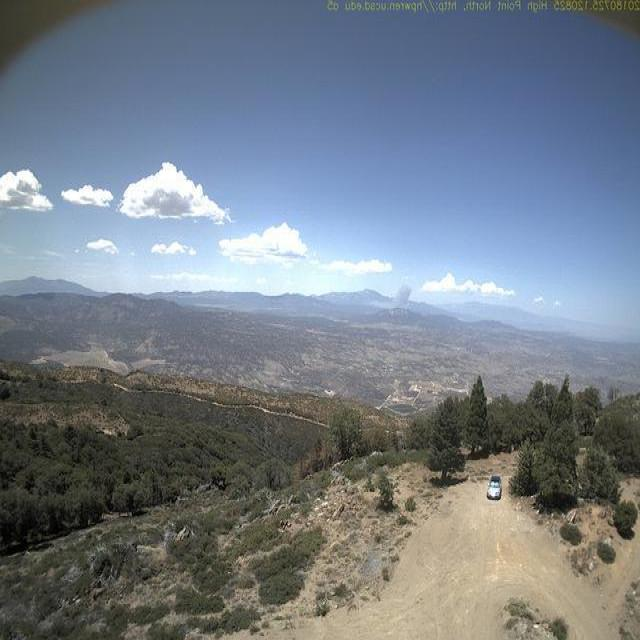smoke: (367, 280, 419, 309)
